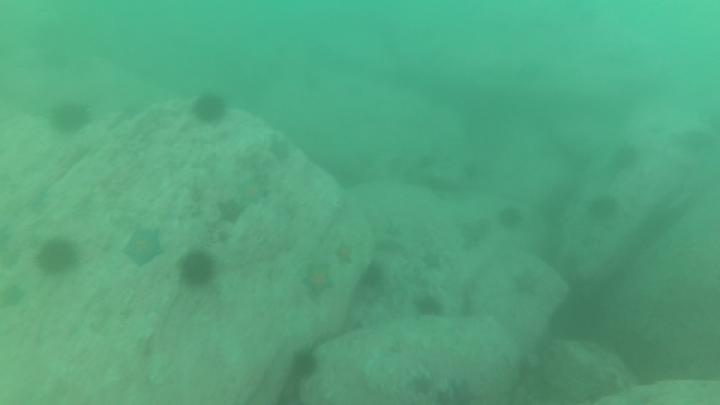echinus: (34, 235, 80, 278), (176, 248, 219, 290), (46, 99, 93, 137), (189, 91, 230, 128), (287, 346, 322, 382), (585, 192, 622, 224), (609, 141, 642, 173), (411, 292, 446, 321), (357, 260, 388, 292), (495, 204, 525, 232)
starfish: (120, 224, 167, 269), (298, 260, 338, 301), (232, 174, 272, 208), (437, 376, 481, 405), (509, 266, 544, 300), (22, 180, 55, 216), (214, 196, 247, 227), (0, 280, 28, 312), (266, 135, 293, 164), (332, 240, 357, 267), (419, 248, 445, 273)
